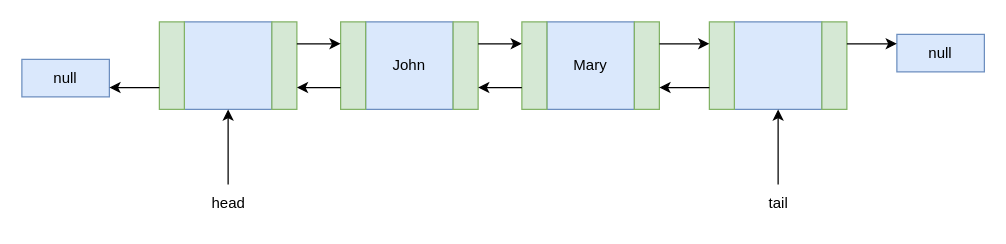
The diagram is 1006 pixels wide and 244 high, and some of its shapes have lost their labels. Each missing label, with the centre of its shape:
Jane: (227,65)
Mike: (777,65)
